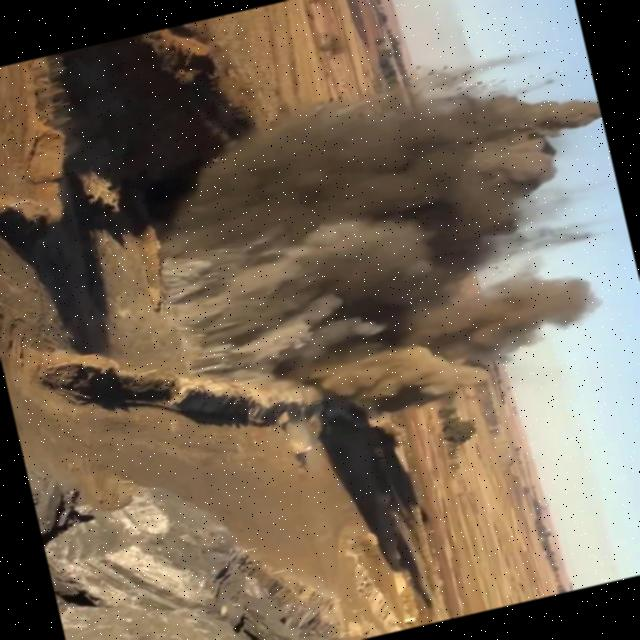explosion: (79, 25, 640, 503)
